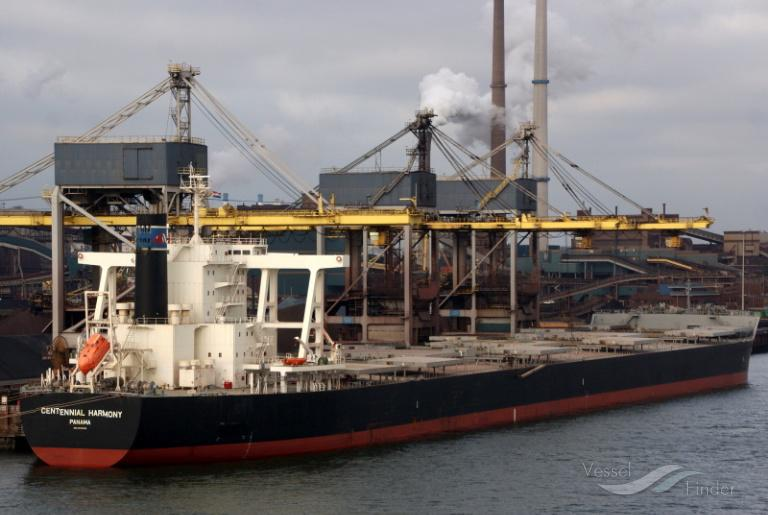OCR: (36, 404, 133, 433)
